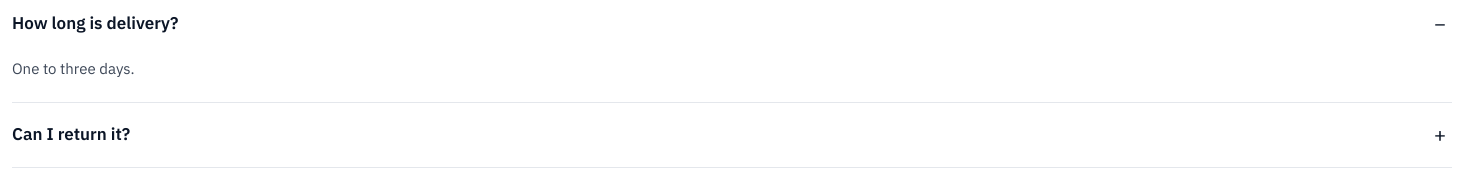
Test case: opens one answer at a time
The image size is (1464, 185).
Check: the text "One to three days." is shown, box [12,59,135,78]
Click the button "Can I return it? +": [71, 134] box [12,102,1452,166]
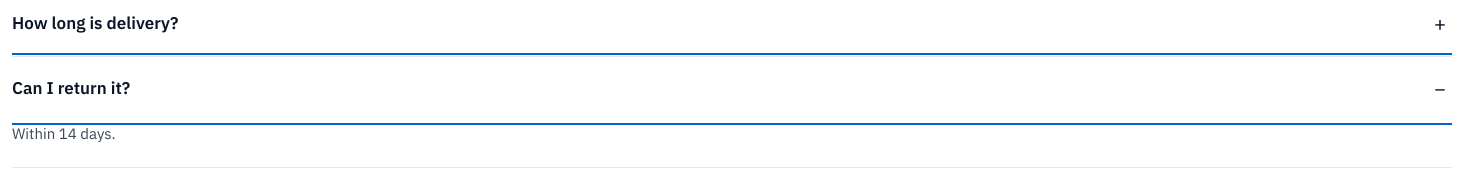
Check: the text "Within 14 days." is shown, box [12,124,116,143]
Check: the text "One to three days." is gone
